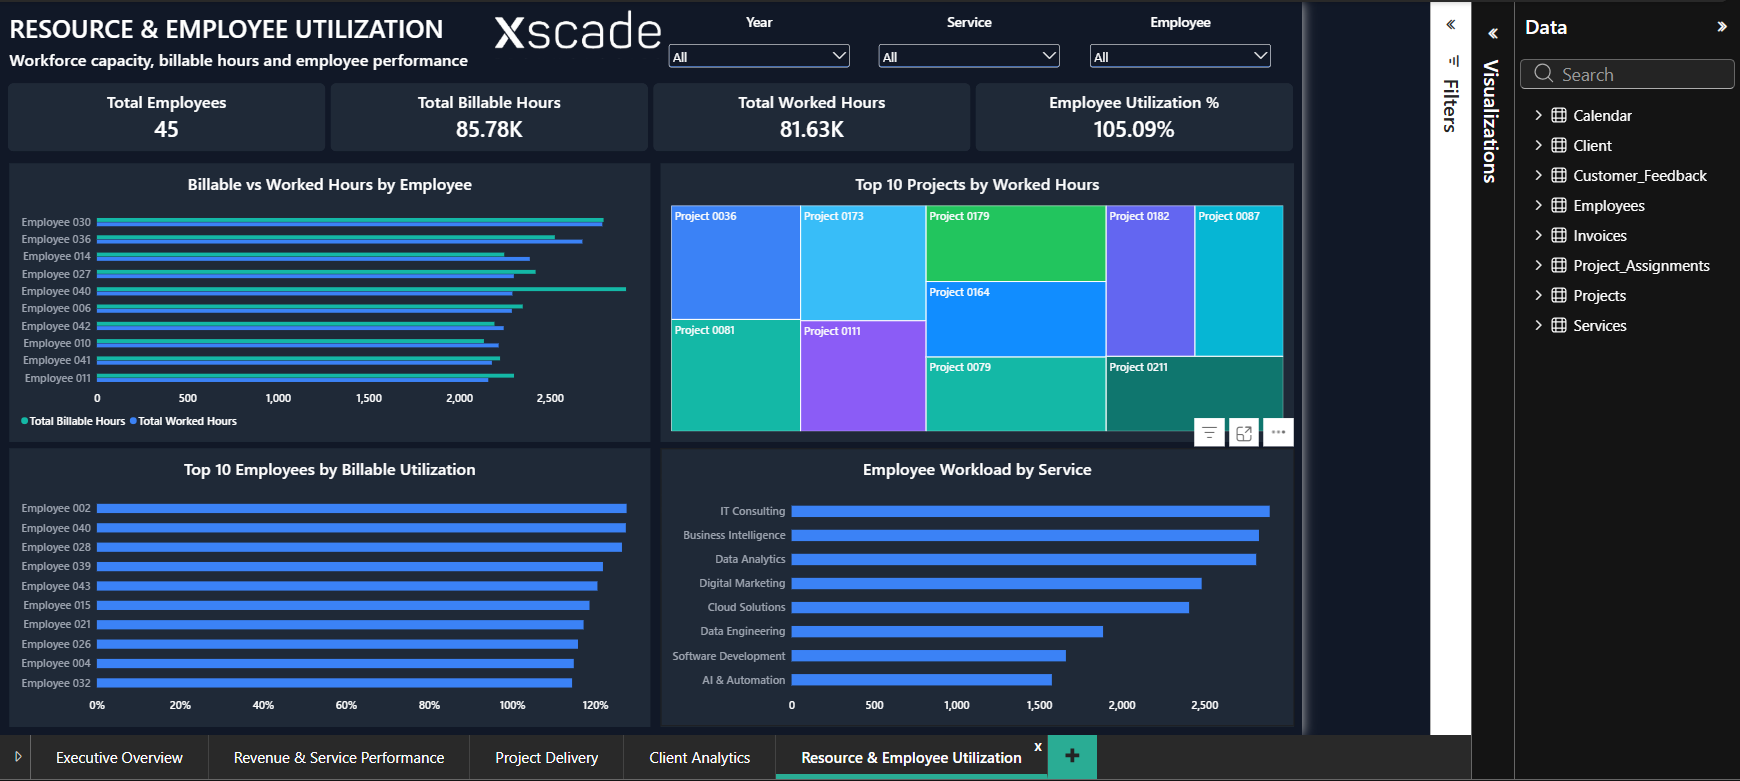

The page's visual inventory and layout, read from the dashboard file:
{"tool":"powerbi","page":{"name":"Resource & Employee Utilization","canvas":[1920,1080],"ordinal":4},"visuals":[{"type":"textbox","box":[16.6,12.9,657.1,69.9],"z":0},{"type":"textbox","box":[16.6,68.1,706.8,62.6],"z":1000},{"type":"cardVisual","fields":{"Data":["Services.Total Employees","Services.Total Billable Hours","Services.Total Worked Hours","Services.Employee Utilization %"]},"box":[14.7,120,1893.9,100.5],"z":2000},{"type":"clusteredBarChart","title":"Billable vs Worked Hours by Employee","fields":{"Category":["Employees.EmployeeName"],"Y":["Services.Total Billable Hours","Services.Total Worked Hours"]},"box":[16.6,237.4,944.2,410.4],"z":3000},{"type":"clusteredBarChart","title":"Top 10 Employees by Billable Utilization","fields":{"Category":["Employees.EmployeeName"],"Y":["Services.Employee Utilization %"]},"box":[17,657,944,410],"z":4000},{"type":"treemap","title":"Top 10 Projects by Worked Hours","fields":{"Group":["Projects.ProjectName"],"Values":["Services.Total Worked Hours"]},"box":[975.5,237.4,933.1,410.4],"z":5000},{"type":"barChart","title":"Employee Workload by Service","fields":{"Category":["Services.ServiceName"],"Y":["Sum(Project_Assignments.WorkedHours)"]},"box":[975,657,933,410],"z":6000},{"type":"slicer","title":"Year","fields":{"Values":["Calendar.Year"]},"box":[982.8,14.7,276.1,101.2],"z":7000},{"type":"slicer","title":"Service","fields":{"Values":["Services.ServiceName"]},"box":[1292,14.7,276.1,101.2],"z":8000},{"type":"slicer","title":"Employee","fields":{"Values":["Employees.EmployeeName"]},"box":[1603.1,14.7,276.1,101.2],"z":9000},{"type":"image","box":[653.4,0,414.1,82.8],"z":9001}]}

Visuals, with their boxes on the page's 1920x1080 design canvas (x1, y1, x2, y2). These are canvas units, not pixel positions in the 1740x781 screenshot, which may show the page scaled, cropped or inside an application window:
textbox: <bbox>17, 13, 674, 83</bbox>
textbox: <bbox>17, 68, 723, 131</bbox>
cardVisual - Services.Total Employees x Services.Total Billable Hours: <bbox>15, 120, 1909, 220</bbox>
"Billable vs Worked Hours by Employee" clusteredBarChart: <bbox>17, 237, 961, 648</bbox>
"Top 10 Employees by Billable Utilization" clusteredBarChart: <bbox>17, 657, 961, 1067</bbox>
"Top 10 Projects by Worked Hours" treemap: <bbox>976, 237, 1909, 648</bbox>
"Employee Workload by Service" barChart: <bbox>975, 657, 1908, 1067</bbox>
"Year" slicer: <bbox>983, 15, 1259, 116</bbox>
"Service" slicer: <bbox>1292, 15, 1568, 116</bbox>
"Employee" slicer: <bbox>1603, 15, 1879, 116</bbox>
image: <bbox>653, 0, 1068, 83</bbox>
